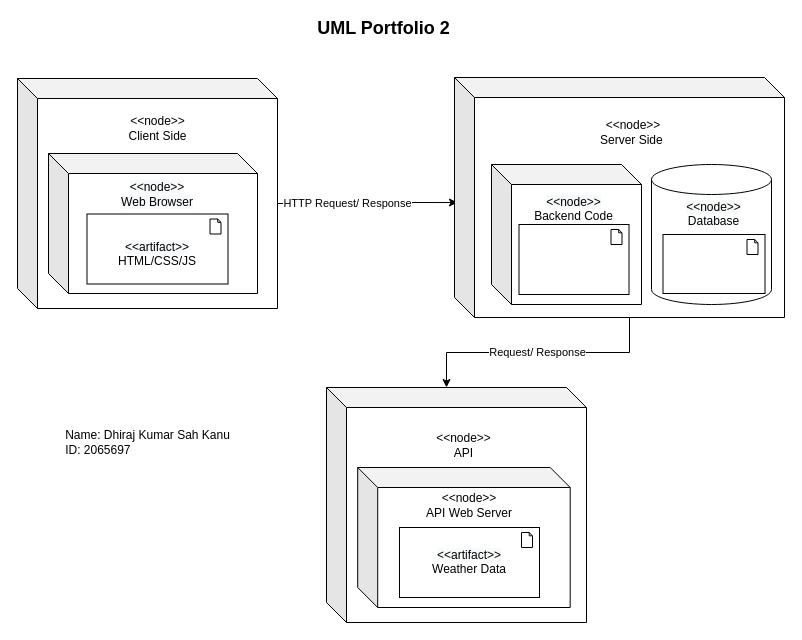
This 802x640 diagram has some shape labels left out. The centre of each missing label's shape, as x and y in pixels:
<<artifact>> Database: point (713, 264)
<<artifact>> PHP: point (573, 259)
